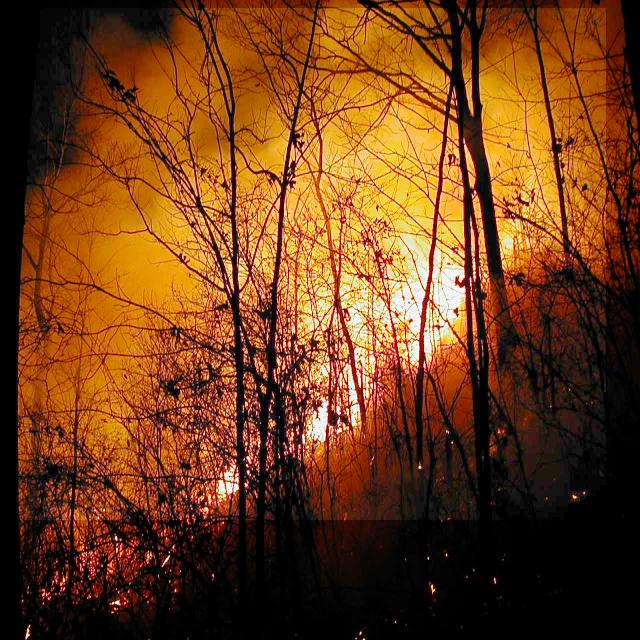Fire: (304, 252, 471, 366), (292, 362, 382, 444), (479, 220, 562, 298), (207, 428, 279, 516)
Smoke: (5, 8, 606, 520)
